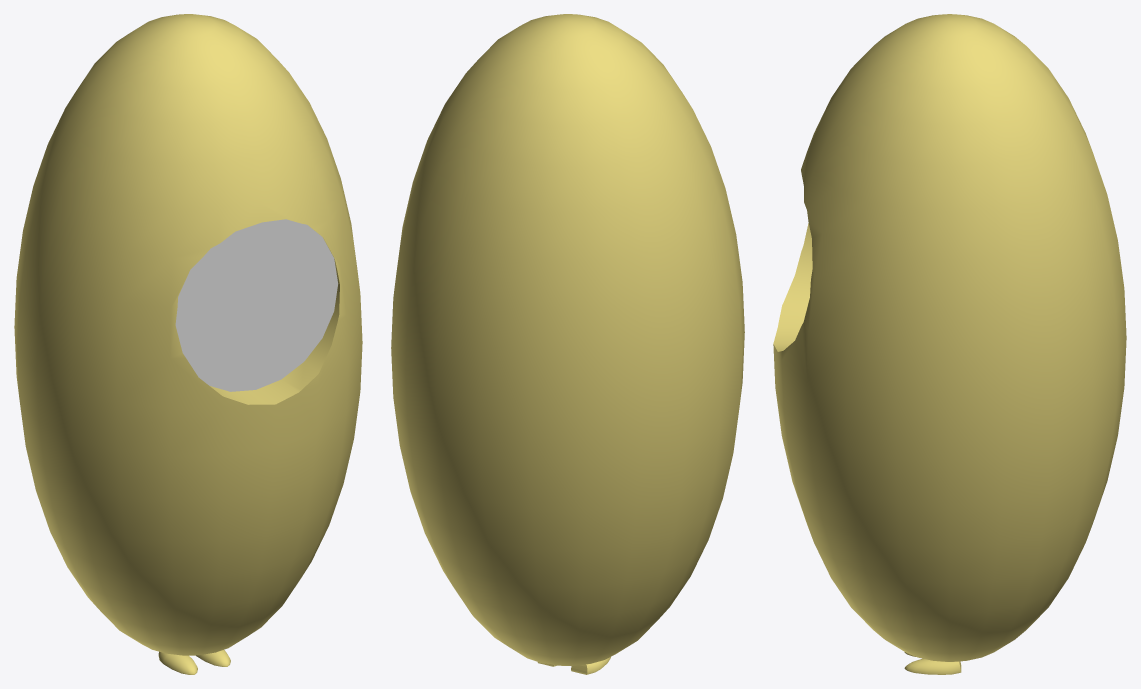
File: friend5.fbx
3 renders of one model, left to right at view 1: azimuth 30°, elevation 25°; view 2: azimuth 150°, elevation 25°; view 3: azimuth 270°, elevation 25°, orthographic.
Parts seen in each view (by area): view 1: pSphere17, polySurface6; view 2: pSphere17; view 3: pSphere17, polySurface4.
Part boxes in pixels (left/top/right/bottom): pSphere17: left=14, top=14, right=362, bottom=655; polySurface6: left=158, top=651, right=197, bottom=674; pSphere17: left=391, top=14, right=744, bottom=665; pSphere17: left=773, top=14, right=1126, bottom=661; polySurface4: left=904, top=658, right=961, bottom=674.
Size of the model in its own units: 9.21 by 18.38 by 9.21.
